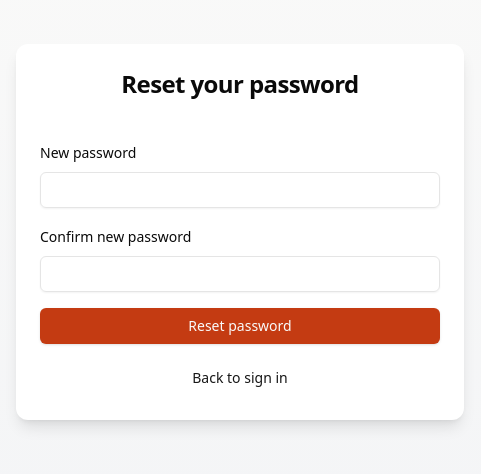
it: ResetPassword › shows error when token missing after filling required fields
Type "password123" into the password field labelled "New password" at (240,190), box [40, 172, 440, 208]
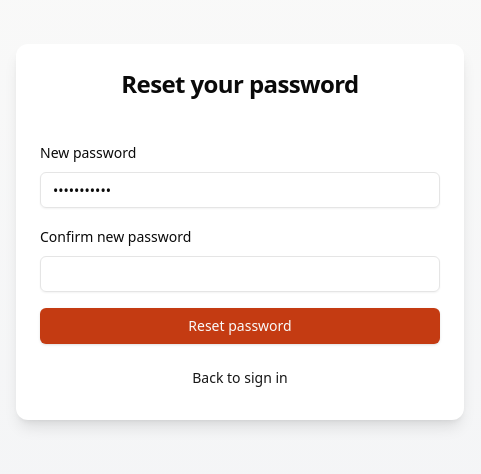
Type "password123" into the password field labelled "Confirm new password" at (240,274), box [40, 256, 440, 292]
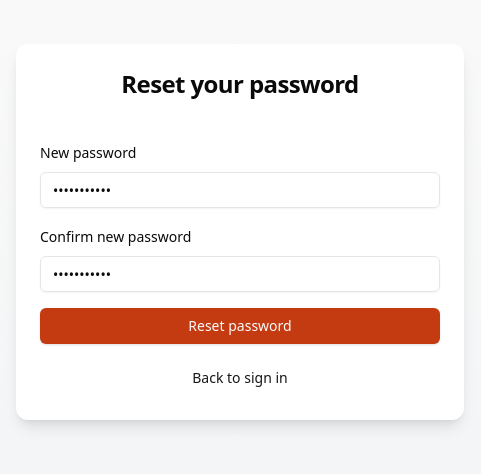
Click the button "Reset password" at (240,326), box [40, 308, 440, 344]
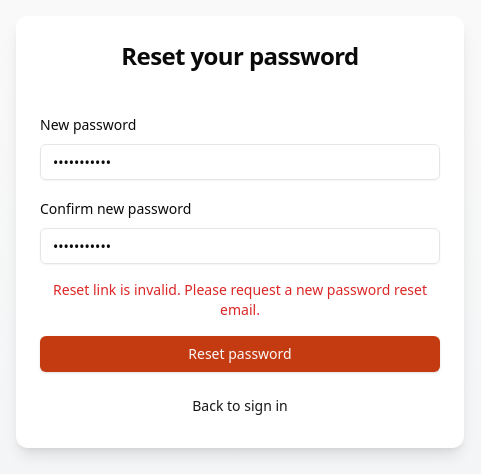
Check: the text "Reset link is invalid" is shown, box [53, 280, 427, 319]
